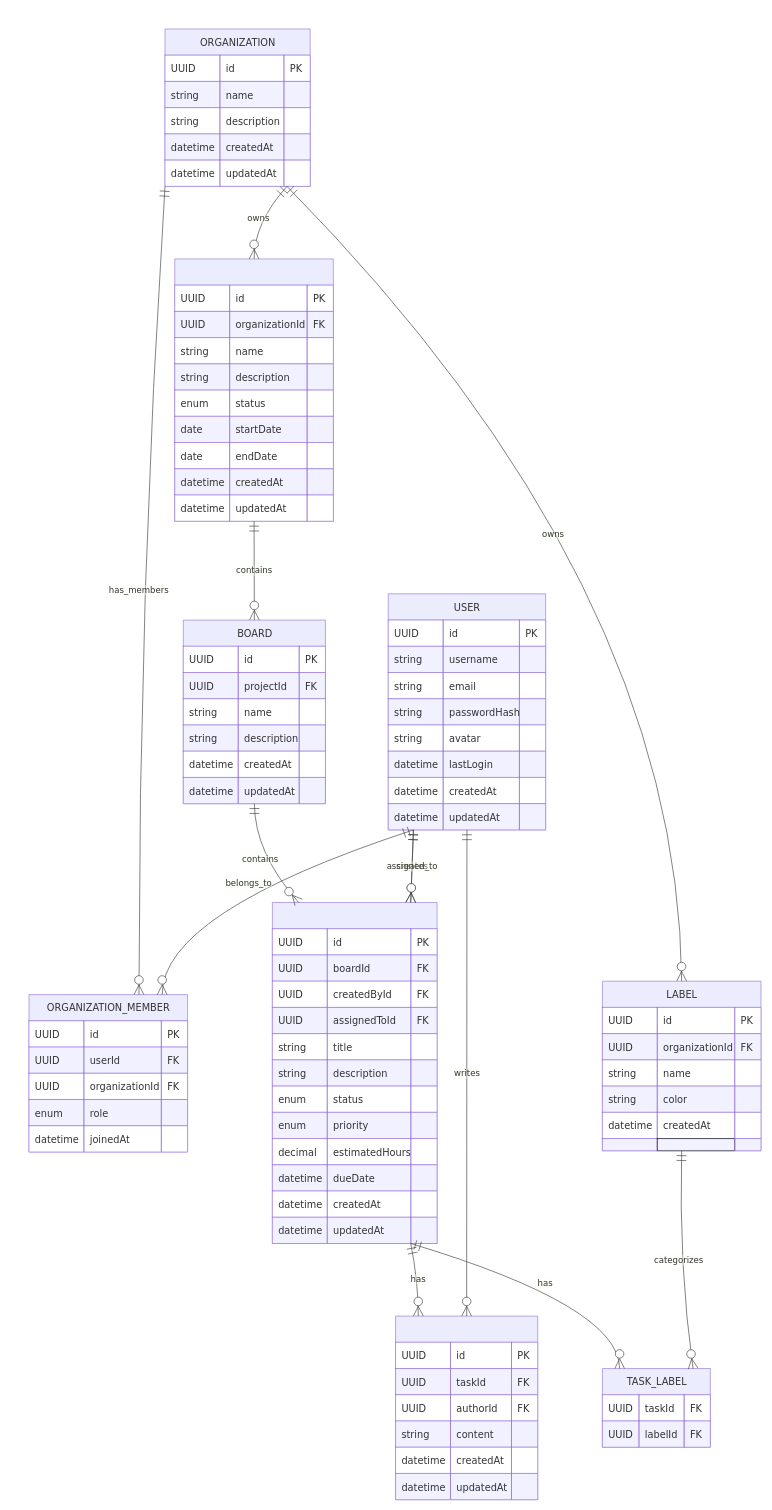
This 772x1510 diagram has some shape labels left out. The box of each missing label's shape, as (x1, y1, x2, y2) in pixels:
COMMENT: (395, 1315, 538, 1500)
PROJECT: (174, 258, 333, 521)
TASK: (272, 902, 437, 1243)
